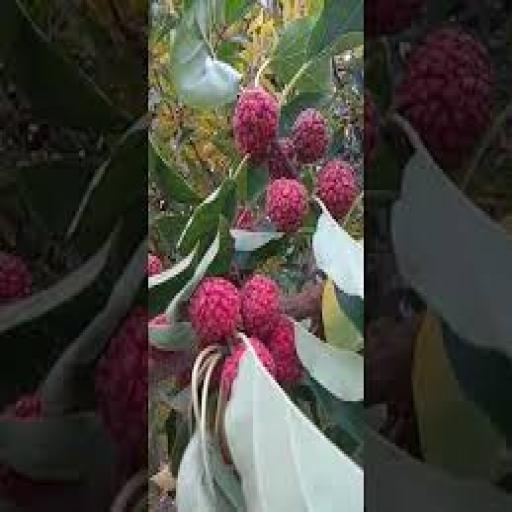lychee: (396, 30, 492, 166), (95, 307, 148, 469), (188, 278, 241, 345), (232, 88, 278, 160), (242, 275, 282, 340), (317, 159, 357, 219), (267, 317, 302, 382), (265, 180, 308, 232), (364, 0, 425, 36), (291, 109, 330, 163), (0, 465, 49, 504), (0, 251, 31, 303), (222, 344, 247, 395), (267, 138, 296, 179), (364, 90, 379, 166), (234, 209, 255, 229), (147, 254, 164, 277)
